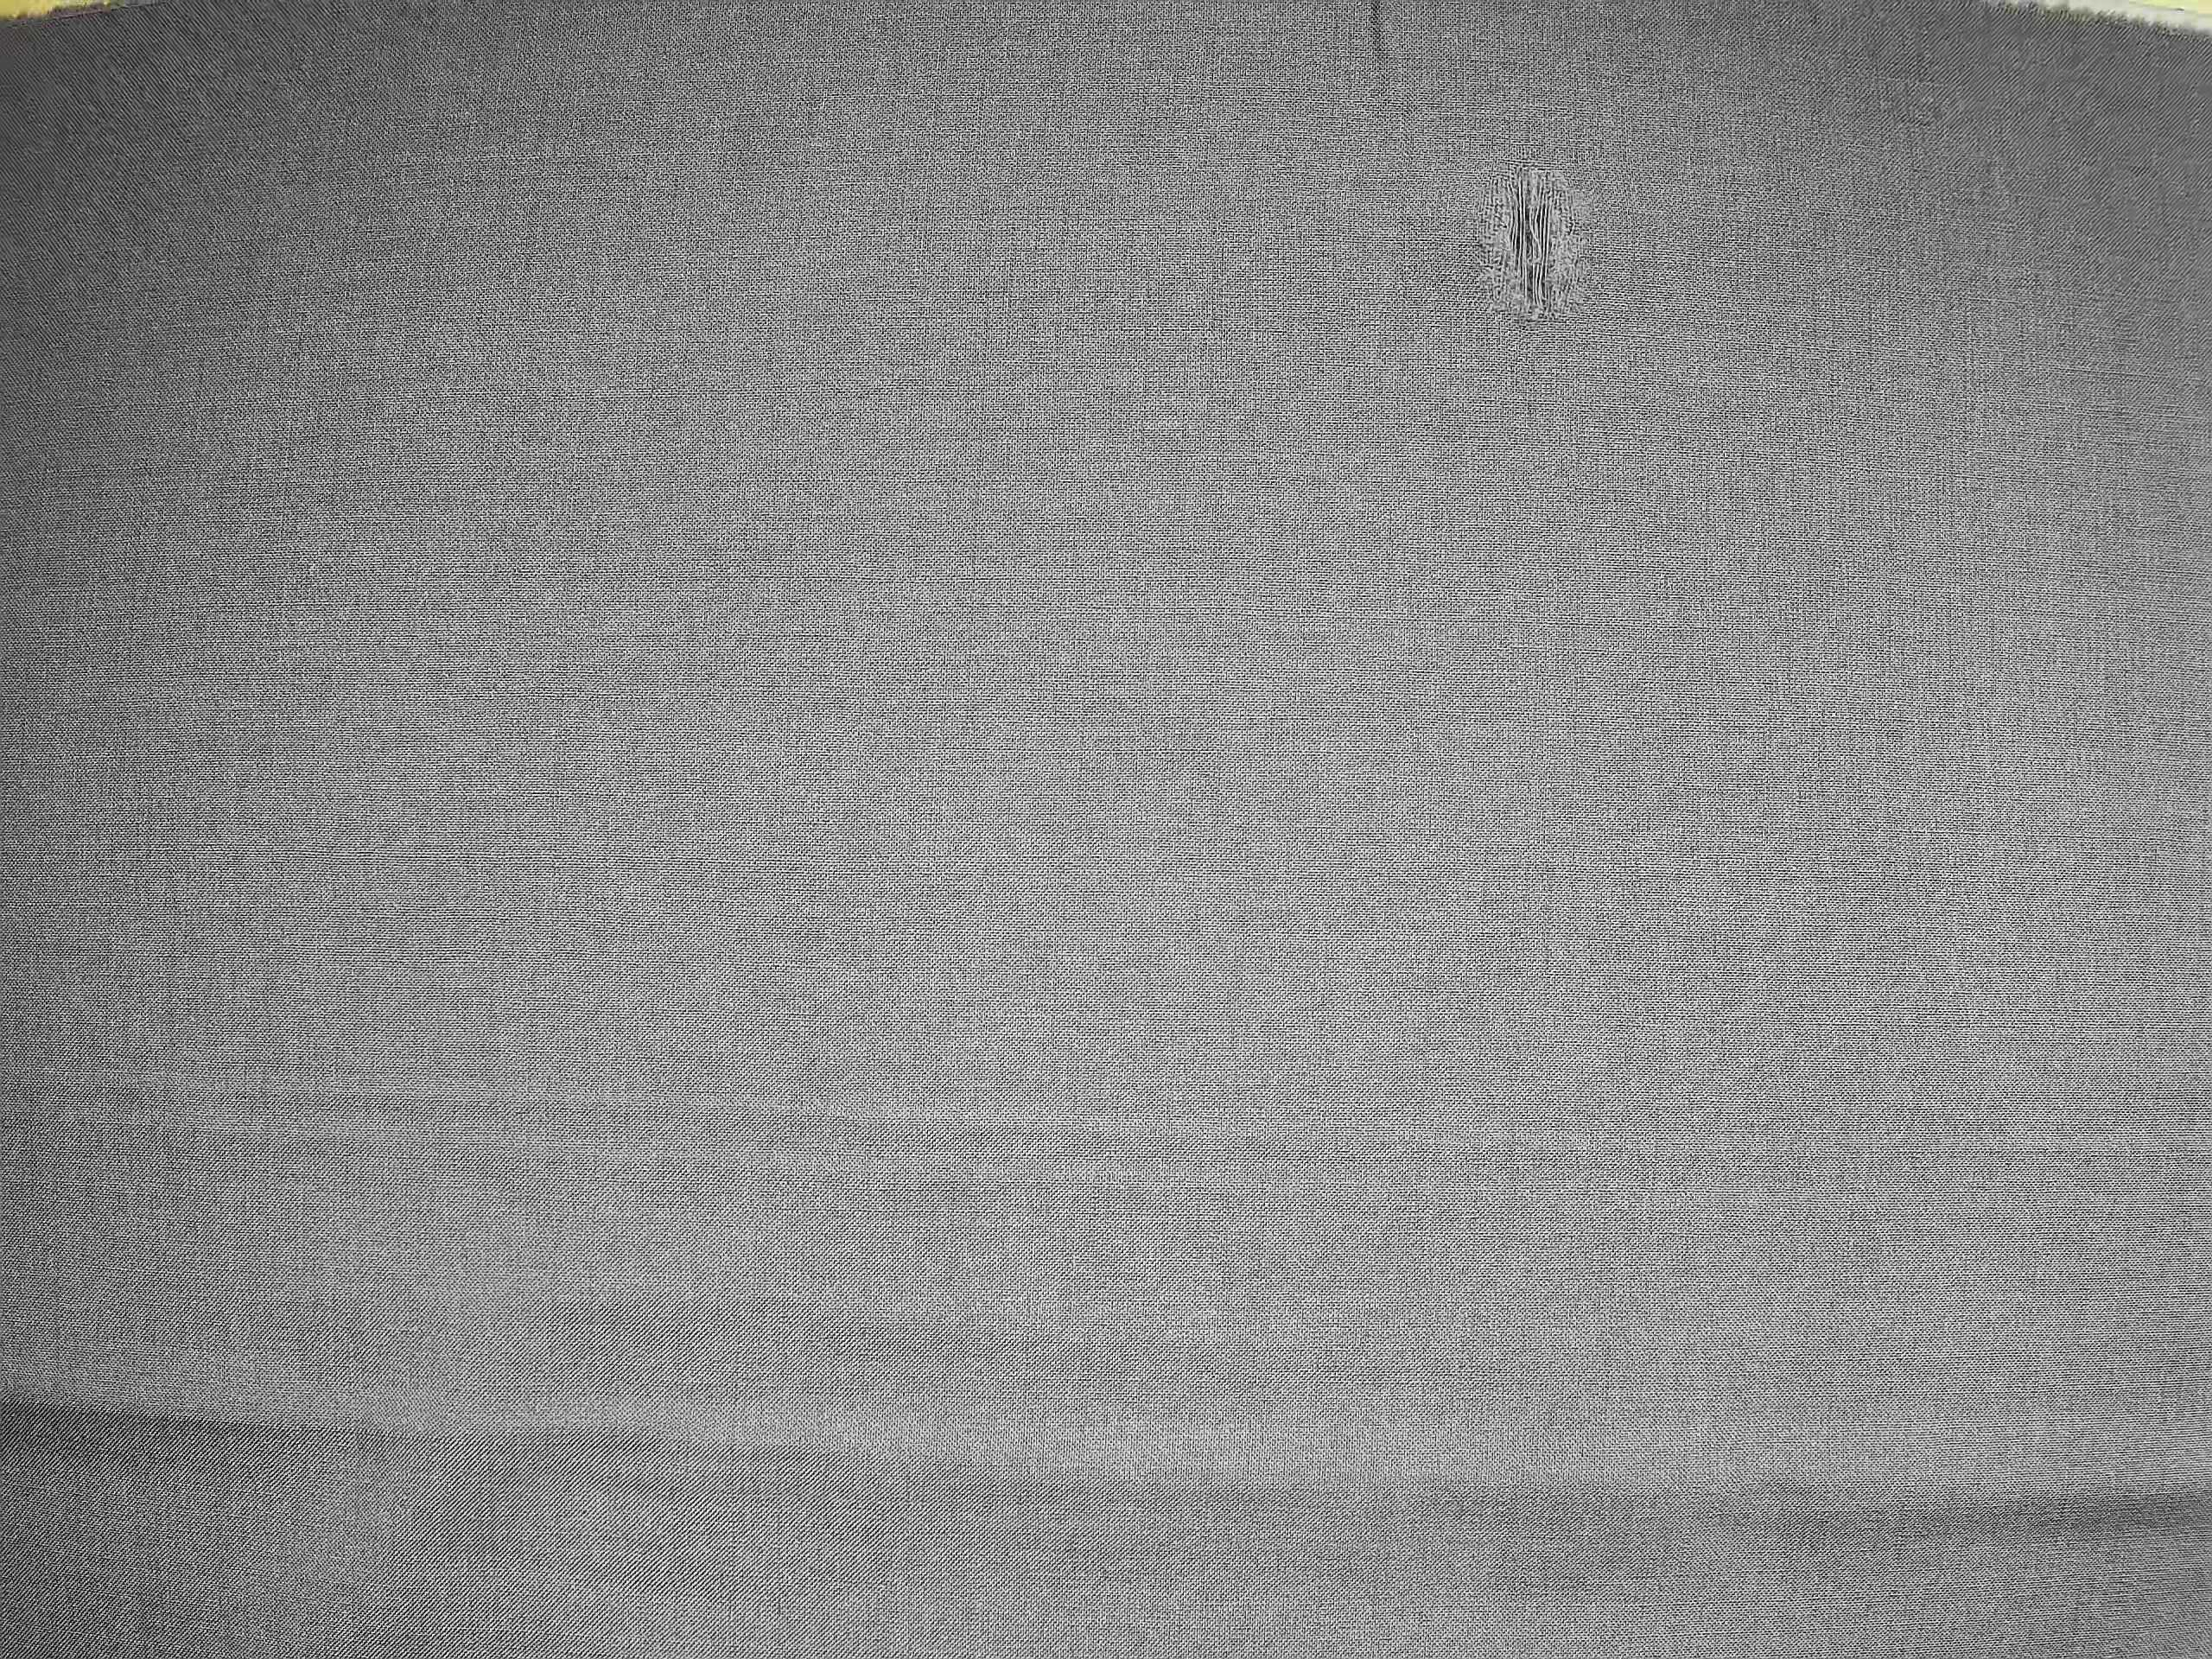brushed-hole: (1439, 122, 1611, 350)
